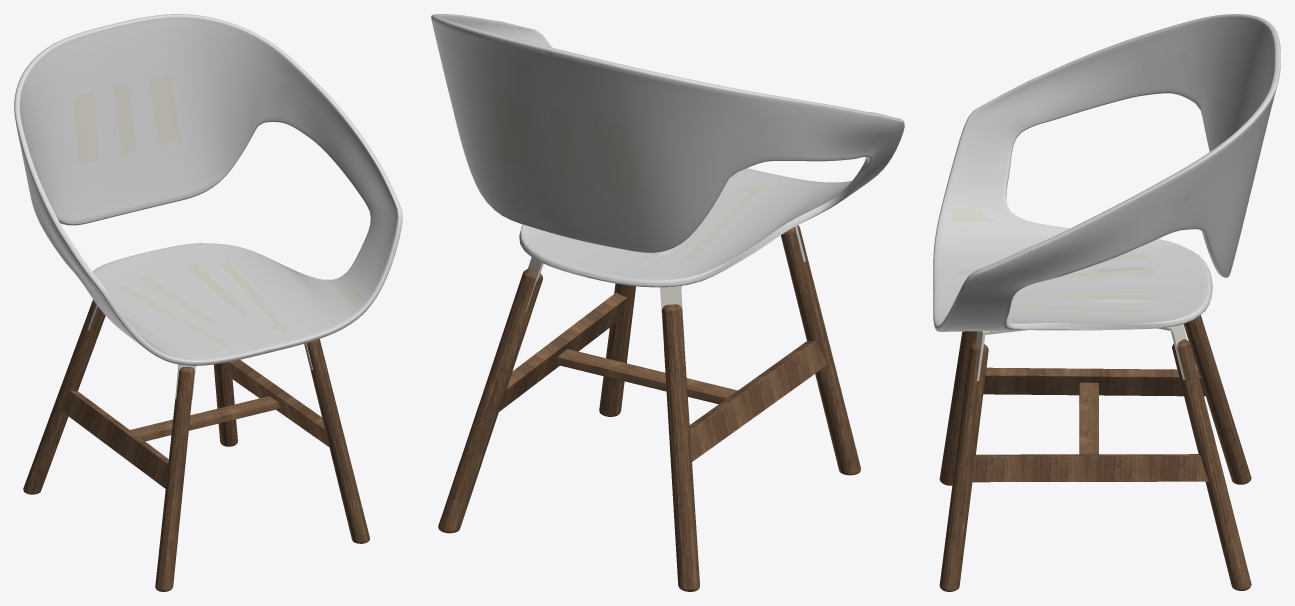
Rendered from cadeira1.glb.
3 views of the same model, side by side, from view 1: azimuth 30°, elevation 25°; view 2: azimuth 150°, elevation 25°; view 3: azimuth 270°, elevation 25° (orthographic). The views are drawn at different scales.
Parts seen in each view (by area): view 1: root; view 2: root; view 3: root.
Part boxes in pixels (x1=…): root: x1=14, y1=14, x2=402, y2=591; root: x1=431, y1=14, x2=904, y2=591; root: x1=933, y1=14, x2=1280, y2=591.
Bounding box in the file's own units: 0.6289 × 0.8232 × 0.5419.
Materials: 3 (1 with a texture image).
